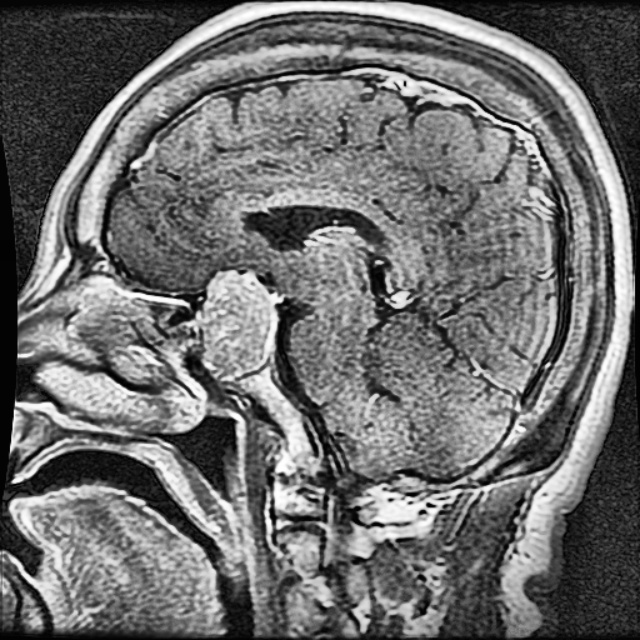Pituitary: (198, 272, 275, 375)
